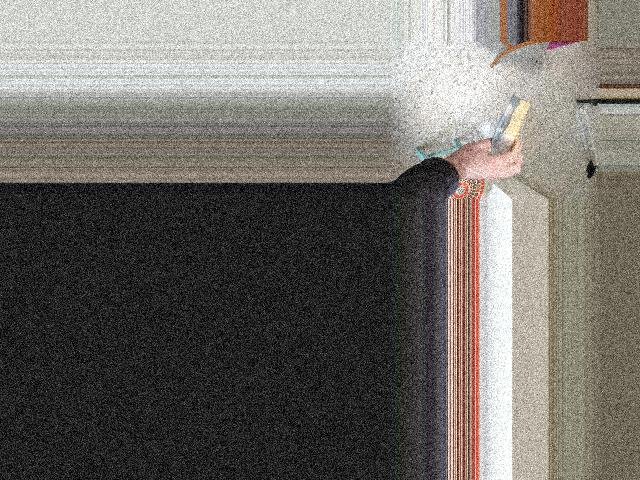cheese: (474, 90, 551, 185)
